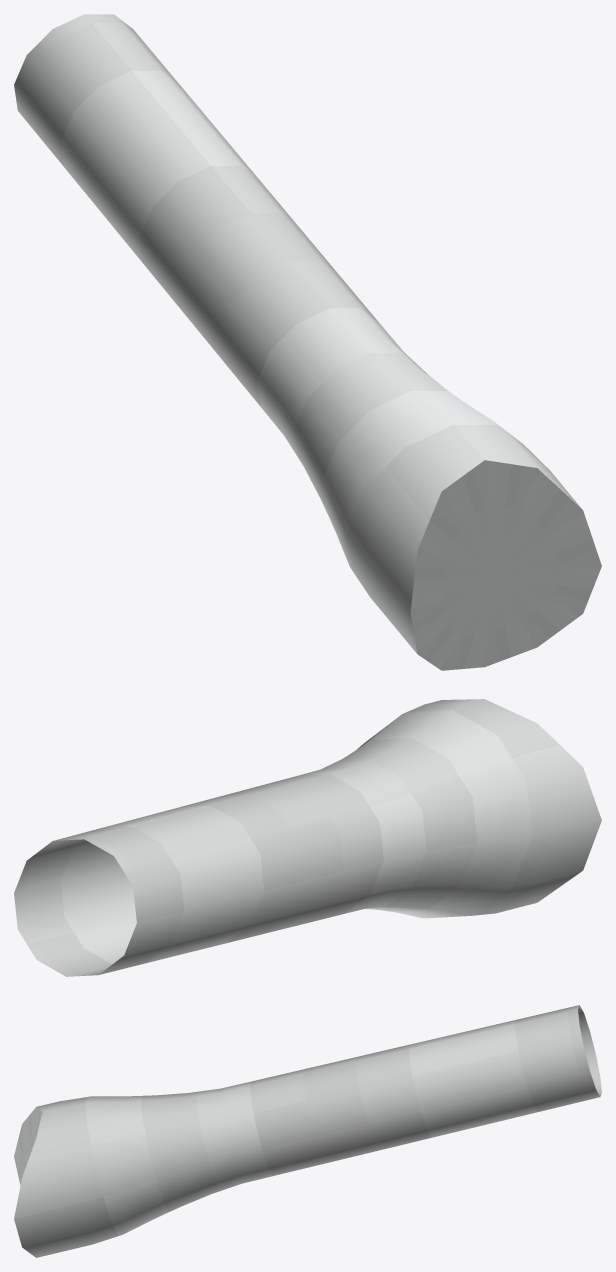
File: luminairearm_caltrans15ftstraightdouble_c0_thin.obj
The picture shows the model from 3 angles, top to bottom: view 1: azimuth 30°, elevation 25°; view 2: azimuth 150°, elevation 25°; view 3: azimuth 270°, elevation 25°; orthographic projection. The views are drawn at different scales.
Visible parts, largest first — view 1: luminairearm_caltrans15ftstraightdouble_c0_thin; view 2: luminairearm_caltrans15ftstraightdouble_c0_thin; view 3: luminairearm_caltrans15ftstraightdouble_c0_thin.
Boxes of the visible parts, x1,y1,x2,y2 form: luminairearm_caltrans15ftstraightdouble_c0_thin: (14, 14, 601, 670); luminairearm_caltrans15ftstraightdouble_c0_thin: (14, 699, 601, 976); luminairearm_caltrans15ftstraightdouble_c0_thin: (14, 1005, 601, 1257).
Size of the model in its own units: 0.3375 by 0.6063 by 1.34.
